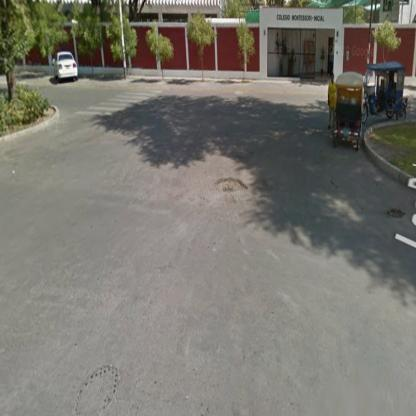Obstaculo: (363, 61, 411, 126), (73, 367, 119, 416), (215, 176, 249, 193), (388, 209, 407, 221), (260, 180, 274, 192)
Vehiculo: (334, 72, 363, 152), (53, 51, 79, 85)
